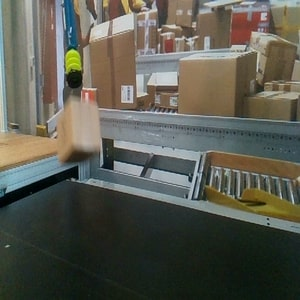box: (56, 95, 102, 167)
